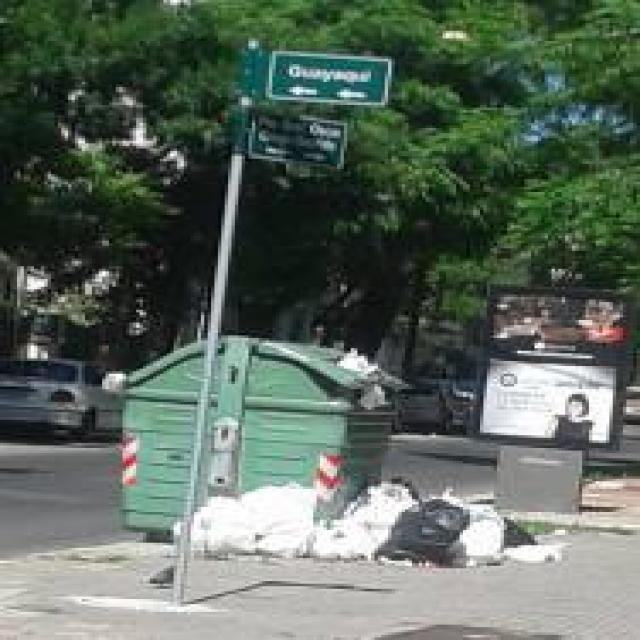garbage: (194, 461, 572, 574), (336, 343, 398, 407)
